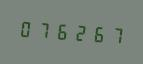seven: (35, 17, 52, 42), (108, 22, 125, 47)
six: (54, 18, 71, 43), (90, 21, 107, 46)
two: (72, 20, 89, 45)
zero: (17, 16, 34, 41)
